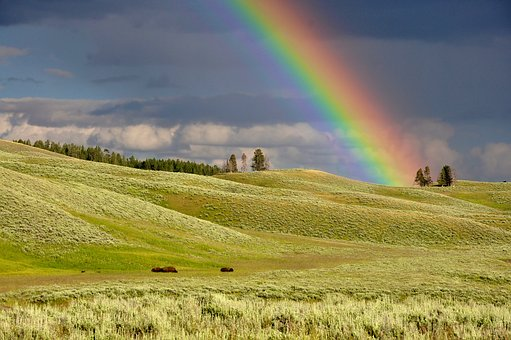field: (8, 148, 511, 339)
sky: (3, 3, 511, 174)
